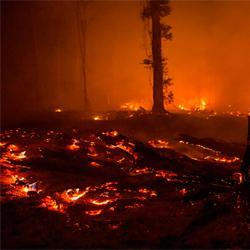fire: (9, 174, 47, 194), (68, 189, 83, 203)
